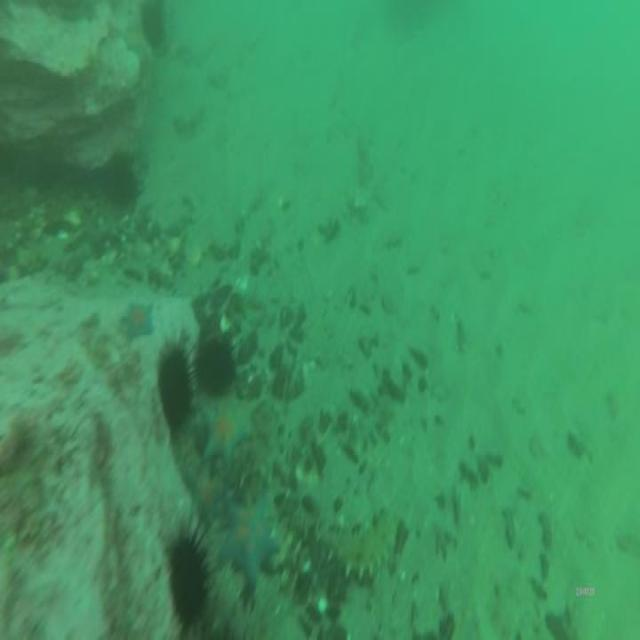echinus: (171, 531, 208, 627), (161, 351, 193, 426), (196, 340, 236, 392), (102, 160, 138, 210), (139, 1, 167, 51)
holothurian: (321, 508, 399, 578)
starfish: (221, 499, 274, 580), (204, 403, 248, 461), (185, 471, 221, 523), (120, 302, 155, 341)
